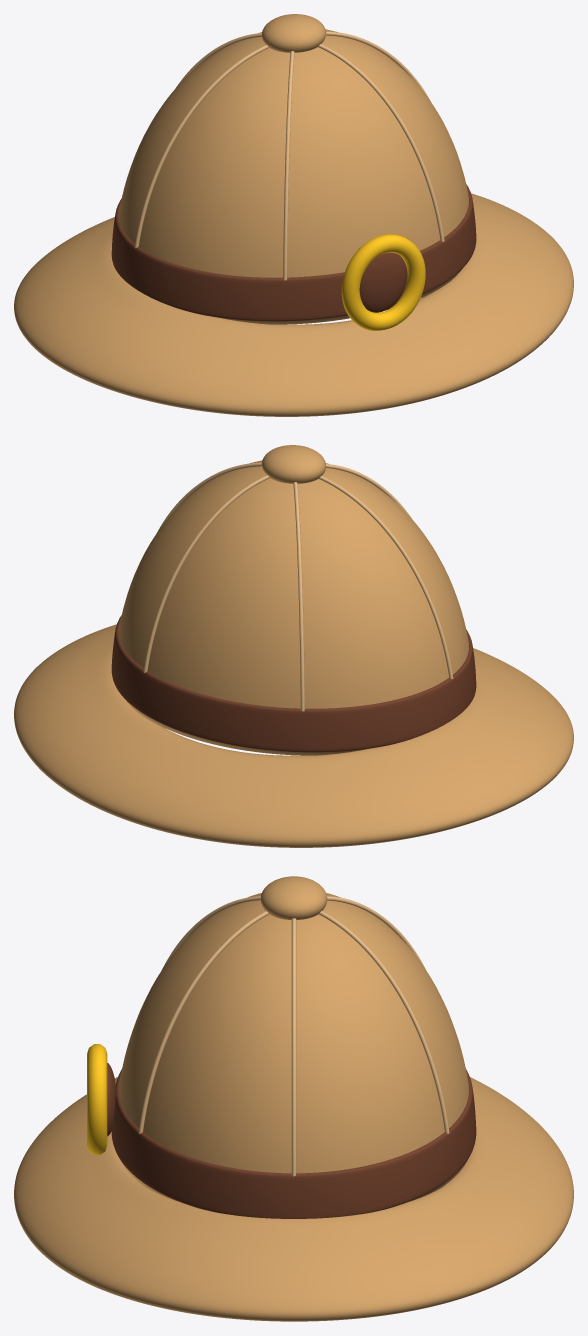
Rendered from ExplorerHat_Cartoon.glb.
3 views of the same model, one above another, from view 1: azimuth 30°, elevation 25°; view 2: azimuth 150°, elevation 25°; view 3: azimuth 270°, elevation 25° (orthographic). The views are drawn at different scales.
Parts seen in each view (by area): view 1: Hollow helmet crown, Rounded oval brim, Leather band, Round gold buckle, Buckle leather center, Top button, Panel seam.003, Panel seam.004, Panel seam.005; view 2: Hollow helmet crown, Rounded oval brim, Leather band, Top button, Panel seam.003, Panel seam.002, Panel seam.001; view 3: Hollow helmet crown, Rounded oval brim, Leather band, Top button, Round gold buckle, Panel seam, Panel seam.001, Panel seam.005.
Boxes of the visible parts, bbox=[...] form: Hollow helmet crown: bbox=[119, 29, 468, 324]; Rounded oval brim: bbox=[14, 193, 573, 416]; Leather band: bbox=[111, 184, 476, 321]; Round gold buckle: bbox=[341, 234, 425, 330]; Buckle leather center: bbox=[359, 252, 406, 312]; Top button: bbox=[261, 14, 326, 52]; Panel seam.003: bbox=[134, 45, 269, 248]; Panel seam.004: bbox=[283, 51, 294, 280]; Panel seam.005: bbox=[318, 44, 444, 241]; Hollow helmet crown: bbox=[119, 460, 468, 755]; Rounded oval brim: bbox=[14, 624, 573, 847]; Leather band: bbox=[111, 615, 476, 752]; Top button: bbox=[261, 445, 326, 483]; Panel seam.003: bbox=[318, 476, 453, 679]; Panel seam.002: bbox=[293, 482, 304, 711]; Panel seam.001: bbox=[143, 475, 269, 672]; Hollow helmet crown: bbox=[119, 893, 468, 1201]; Rounded oval brim: bbox=[14, 1077, 573, 1321]; Leather band: bbox=[111, 1069, 476, 1218]; Top button: bbox=[260, 876, 327, 919]; Round gold buckle: bbox=[87, 1044, 107, 1154]; Panel seam: bbox=[291, 918, 296, 1176]; Panel seam.001: bbox=[318, 911, 449, 1133]; Panel seam.005: bbox=[138, 911, 269, 1133].
Size of the model in its own units: 3.59 by 2.01 by 3.19.
